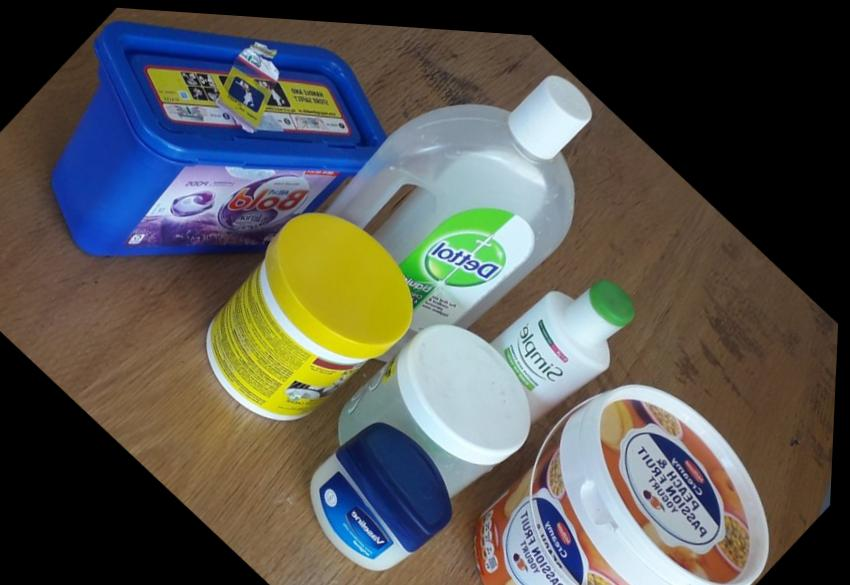plastic: (0, 0, 405, 357), (318, 22, 655, 356), (429, 329, 822, 585), (267, 292, 560, 585), (170, 179, 439, 460), (482, 242, 658, 424)
